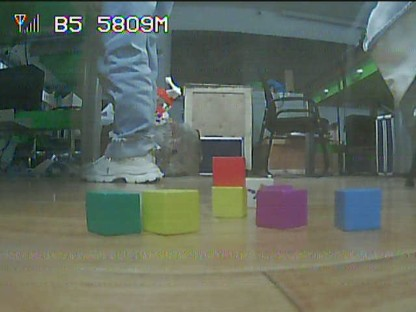b: (336, 190, 378, 226)
g: (86, 190, 137, 233)
r: (213, 158, 242, 184)
